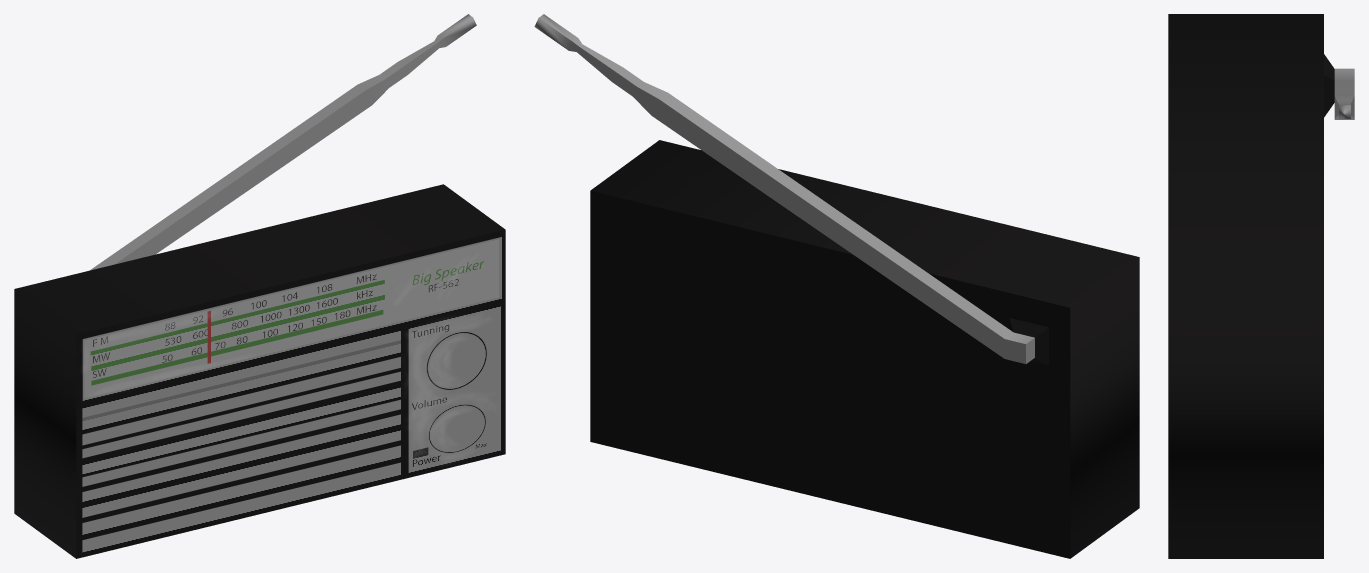
File: Radio.fbx
3 views of the same model, side by side, from view 1: azimuth 30°, elevation 25°; view 2: azimuth 150°, elevation 25°; view 3: azimuth 270°, elevation 25° (orthographic). The views are drawn at different scales.
Parts seen in each view (by area): view 1: Radio; view 2: Radio; view 3: Radio.
Part boxes in pixels (x1,y1,x2,y2): Radio: [14, 14, 505, 558]; Radio: [534, 14, 1139, 558]; Radio: [1168, 14, 1354, 558].
Bounding box in the file's own units: 4.36 × 3.37 × 1.2.
Materials: 1 (1 with a texture image).
